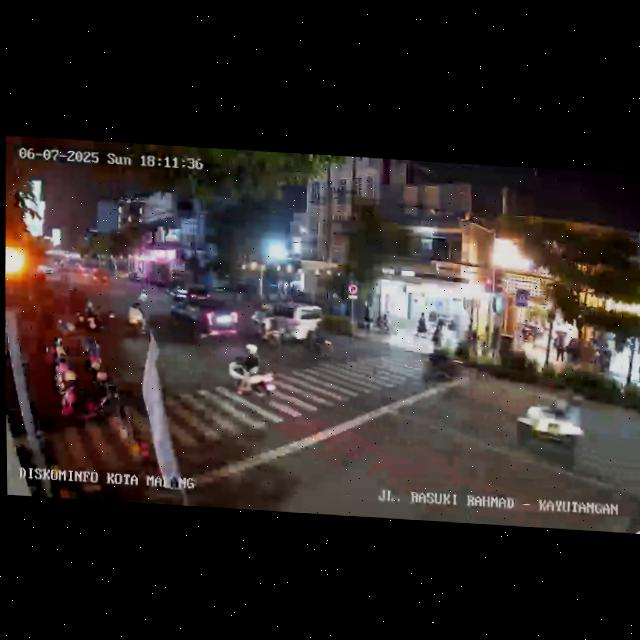car: (249, 300, 324, 348), (169, 299, 238, 342), (168, 280, 209, 302)
motorcycle: (510, 391, 588, 457), (225, 340, 276, 405), (420, 340, 467, 391), (251, 308, 286, 349), (301, 321, 333, 361), (125, 301, 146, 340), (77, 298, 100, 333)
person: (554, 332, 568, 364), (414, 312, 427, 338), (431, 324, 443, 346), (636, 354, 640, 385)
